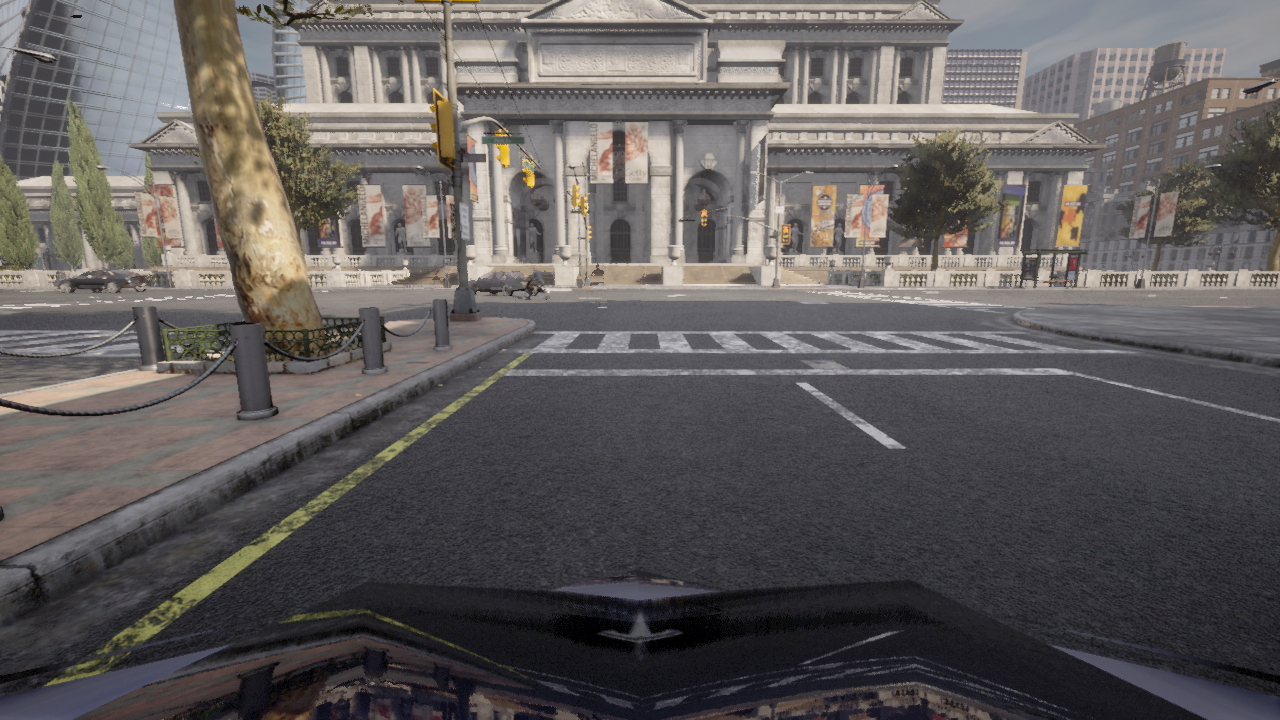cyclist: (0, 569, 1279, 719), (56, 268, 151, 292), (468, 270, 544, 296), (524, 274, 550, 300)
pedestrian: (431, 263, 443, 286)
